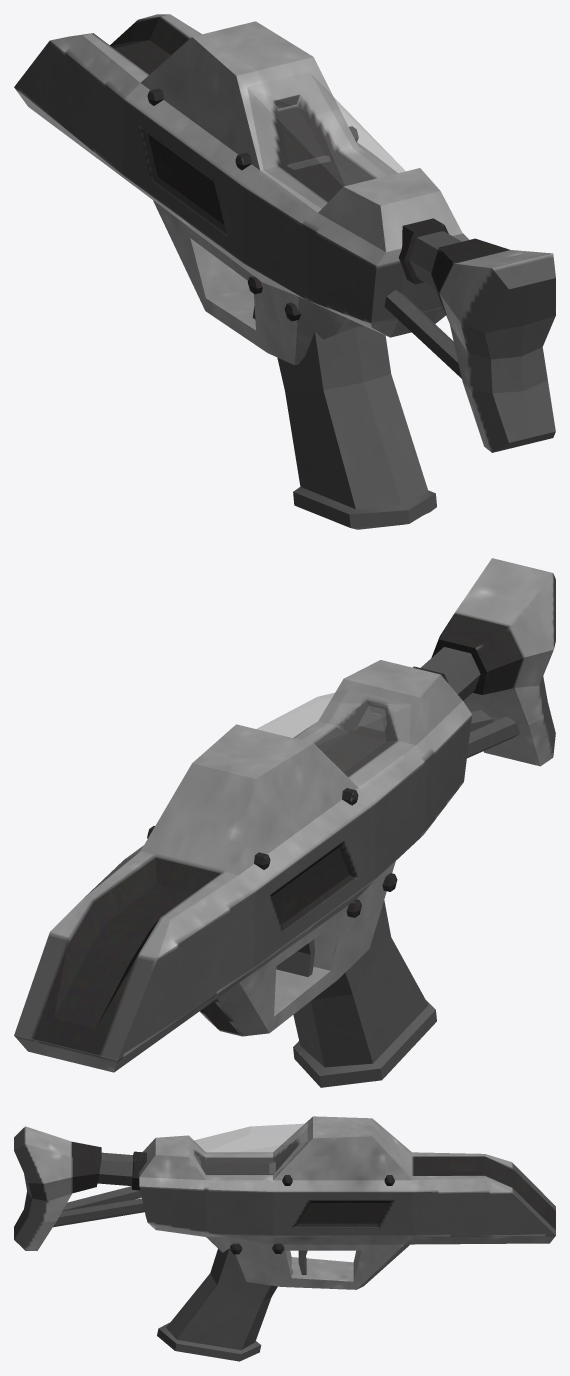
The model's file is MainBody.fbx.
3 views of the same model, one above another, from view 1: azimuth 30°, elevation 25°; view 2: azimuth 150°, elevation 25°; view 3: azimuth 270°, elevation 25° (orthographic). The views are drawn at different scales.
Parts seen in each view (by area): view 1: Main, PlasmaCrystal; view 2: Main, PlasmaCrystal; view 3: Main, PlasmaCrystal.
Part boxes in pixels (box(x1,y1,x2,y2)): Main: box(14, 14, 555, 529); PlasmaCrystal: box(247, 72, 405, 208); Main: box(14, 558, 555, 1087); PlasmaCrystal: box(257, 689, 411, 785); Main: box(14, 1116, 555, 1361); PlasmaCrystal: box(192, 1123, 307, 1178).
Bounding box in the file's own units: 0.1371 × 0.389 × 0.8458.
